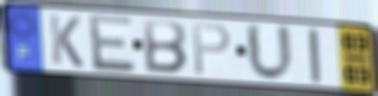B: (142, 18, 189, 76)
E: (86, 12, 138, 74)
I: (305, 27, 324, 85)
K: (47, 12, 85, 70)
P: (190, 21, 233, 78)
U: (244, 21, 297, 84)
